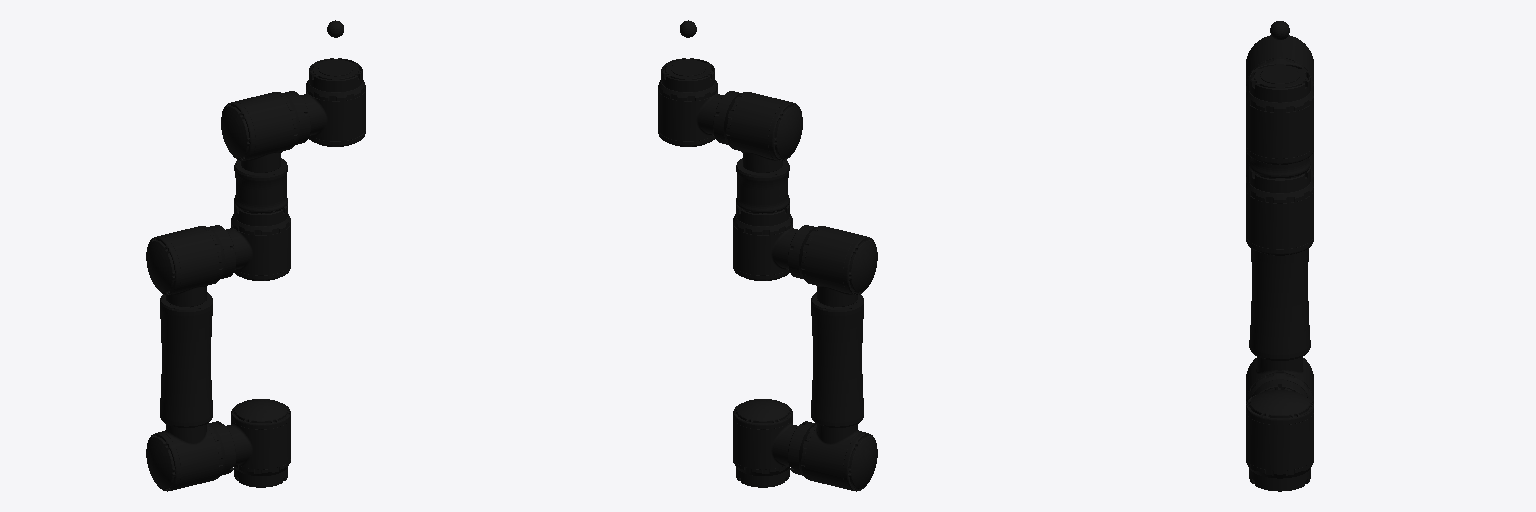
URDF robot description (aquarm_origin):
<?xml version="1.0" ?>
<robot name="aquarm_origin">
  <material name="silver">
    <color rgba="0.116 0.116 0.116 1.000"/>
  </material>

  <link name="base_link">
    <inertial>
      <origin rpy="0 0 0" xyz="-0.0012826207051944384 9.218271998639004e-07 0.022718286485849747"/>
      <mass value="0.43979388247230944"/>
      <inertia ixx="0.000228" ixy="0.0" ixz="2e-06" iyy="0.000242" iyz="-0.0" izz="0.00024"/>
    </inertial>
    <visual>
      <origin rpy="0 0 0" xyz="0 0 0"/>
      <geometry>
        <mesh filename="package://aquarm_description/meshes/aquarm_origin/base_link.stl" scale="1.0 1.0 1.0"/>
      </geometry>
      <material name="silver"/>
    </visual>
    <collision>
      <origin rpy="0 0 0" xyz="0 0 0.028"/>
      <geometry>
        <cylinder radius="0.030" length="0.056"/>
      </geometry>
    </collision>
  </link>
  <link name="link_1">
    <inertial>
      <origin rpy="0 0 0" xyz="-0.002360416530553523 -3.52764964031724e-06 0.03938053665298224"/>
      <mass value="0.7586472269825323"/>
      <inertia ixx="0.000583" ixy="-0.0" ixz="1.9e-05" iyy="0.000642" iyz="-1e-06" izz="0.000509"/>
    </inertial>
    <visual>
      <origin rpy="0 0 0" xyz="0.0 0.0 -0.056"/>
      <geometry>
        <mesh filename="package://aquarm_description/meshes/aquarm_origin/link_1.stl" scale="1.0 1.0 1.0"/>
      </geometry>
      <material name="silver"/>
    </visual>
    <collision>
      <origin rpy="0 0 0" xyz="0 0 0.025"/>
      <geometry>
        <cylinder radius="0.025" length="0.05"/>
      </geometry>
    </collision>
    <collision>
      <origin rpy="0 1.5708 0" xyz="-0.02475 0 0.05"/>
      <geometry>
        <cylinder radius="0.025" length="0.0495"/>
      </geometry>
    </collision>
  </link>
  <link name="link_2">
    <inertial>
      <origin rpy="0 0 0" xyz="-0.0412061525896634 -1.451457640822732e-09 0.12500022434407893"/>
      <mass value="1.8322876716564722"/>
      <inertia ixx="0.02501" ixy="-0.0" ixz="0.0" iyy="0.025305" iyz="0.0" izz="0.0014"/>
    </inertial>
    <visual>
      <origin rpy="0 0 0" xyz="0.0495 -0.0 -0.106"/>
      <geometry>
        <mesh filename="package://aquarm_description/meshes/aquarm_origin/link_2.stl" scale="1.0 1.0 1.0"/>
      </geometry>
      <material name="silver"/>
    </visual>
    <collision>
      <origin rpy="0 0 0" xyz="-0.05 0 0.125"/>
      <geometry>
        <cylinder radius="0.030" length="0.25"/>
      </geometry>
    </collision>
  </link>
  <link name="link_3">
    <inertial>
      <origin rpy="0 0 0" xyz="0.047139569533553013 3.524564222311259e-06 0.010619424652950016"/>
      <mass value="0.7586473967627646"/>
      <inertia ixx="0.000583" ixy="0.0" ixz="-1.9e-05" iyy="0.000642" iyz="-1e-06" izz="0.000509"/>
    </inertial>
    <visual>
      <origin rpy="0 0 0" xyz="0.0495 0.0 -0.356"/>
      <geometry>
        <mesh filename="package://aquarm_description/meshes/aquarm_origin/link_3.stl" scale="1.0 1.0 1.0"/>
      </geometry>
      <material name="silver"/>
    </visual>
    <collision>
      <origin rpy="0 1.5708 0" xyz="0.02475 0 0"/>
      <geometry>
        <cylinder radius="0.025" length="0.0495"/>
      </geometry>
    </collision>
    <collision>
      <origin rpy="0 0 0" xyz="0.0495 0 0.025"/>
      <geometry>
        <cylinder radius="0.025" length="0.05"/>
      </geometry>
    </collision>
  </link>
  <link name="link_4">
    <inertial>
      <origin rpy="0 0 0" xyz="0.008481789051599051 -2.816168821948022e-06 0.08132283856391859"/>
      <mass value="0.9498457528251933"/>
      <inertia ixx="0.001335" ixy="1e-06" ixz="-0.00013" iyy="0.001488" iyz="-0.0" izz="0.000707"/>
    </inertial>
    <visual>
      <origin rpy="0 0 0" xyz="0.0 0.0 -0.406"/>
      <geometry>
        <mesh filename="package://aquarm_description/meshes/aquarm_origin/link_4.stl" scale="1.0 1.0 1.0"/>
      </geometry>
      <material name="silver"/>
    </visual>
    <collision>
      <origin rpy="0 0 0" xyz="0 0 0.04875"/>
      <geometry>
        <cylinder radius="0.025" length="0.0975"/>
      </geometry>
    </collision>
  </link>
  <link name="link_5">
    <inertial>
      <origin rpy="0 0 0" xyz="0.04705218543959541 3.912807862299357e-06 0.010967305416015205"/>
      <mass value="0.7307706362027909"/>
      <inertia ixx="0.000568" ixy="0.0" ixz="-2e-05" iyy="0.000627" iyz="-1e-06" izz="0.000486"/>
    </inertial>
    <visual>
      <origin rpy="0 0 0" xyz="-0.05 0.0 -0.5035"/>
      <geometry>
        <mesh filename="package://aquarm_description/meshes/aquarm_origin/link_5.stl" scale="1.0 1.0 1.0"/>
      </geometry>
      <material name="silver"/>
    </visual>
    <collision>
      <origin rpy="0 1.5708 0" xyz="0.02475 0 0"/>
      <geometry>
        <cylinder radius="0.025" length="0.0495"/>
      </geometry>
    </collision>
  </link>
  <link name="link_6">
    <inertial>
      <origin rpy="0 0 0" xyz="-4.7406523151494184e-14 -2.5552644099596276e-14 0.010000000000001674"/>
      <mass value="0.021577473094923763"/>
      <inertia ixx="4e-06" ixy="-0.0" ixz="-0.0" iyy="4e-06" iyz="-0.0" izz="7e-06"/>
    </inertial>
  </link>
  <link name="tool">
    <visual>
      <origin rpy="0 0 0" xyz="0.0 0 0.0"/>
      <geometry>

        <sphere radius="0.01"/>
      </geometry>
      <material name="silver"/>
    </visual>

  </link>

  <joint name="joint1" type="continuous">
    <origin rpy="0 0 0" xyz="0.0 0.0 0.056"/>
    <parent link="base_link"/>
    <child link="link_1"/>
    <axis xyz="0.0 0.0 1.0"/>
  </joint>
  <joint name="joint2" type="continuous">
    <origin rpy="0 0 0" xyz="-0.0495 0.0 0.05"/>
    <parent link="link_1"/>
    <child link="link_2"/>
    <axis xyz="-1.0 0.0 0.0"/>
  </joint>
  <joint name="joint3" type="continuous">
    <origin rpy="0 0 0" xyz="0.0 -0.0 0.25"/>
    <parent link="link_2"/>
    <child link="link_3"/>
    <axis xyz="1.0 0.0 0.0"/>
  </joint>
  <joint name="joint4" type="continuous">
    <origin rpy="0 0 0" xyz="0.0495 0.0 0.05"/>
    <parent link="link_3"/>
    <child link="link_4"/>
    <axis xyz="0.0 0.0 1.0"/>
  </joint>
  <joint name="joint5" type="continuous">
    <origin rpy="0 0 0" xyz="0.05 0.0 0.0975"/>
    <parent link="link_4"/>
    <child link="link_5"/>
    <axis xyz="1.0 0.0 0.0"/>
  </joint>
  <joint name="joint6" type="continuous">
    <origin rpy="0 0 0" xyz="0.0495 0.0 0.05"/>
    <parent link="link_5"/>
    <child link="link_6"/>
    <axis xyz="0.0 0.0 1.0"/>
  </joint>
  <joint name="tool_joint" type="fixed">
    <origin rpy="0 0 0" xyz="0 0 0.05"/>
    <parent link="link_6"/>
    <child link="tool"/>
  </joint>

</robot>

--- Facts derived from the render (not from the file) ---
Views: 3 orthographic renders of the robot side by side, from view 1: azimuth 30°, elevation 25°; view 2: azimuth 150°, elevation 25°; view 3: azimuth 270°, elevation 25°.
Robot: aquarm_origin — 8 links, 7 joints (6 continuous, 1 fixed); root link base_link; default pose: every joint at zero.
Visible links, largest first — view 1: link_2, link_4, link_5, link_1, link_3; view 2: link_2, link_4, link_5, link_1, link_3; view 3: link_2, link_1, link_5, link_3, link_4.
Link boxes in pixels (box(x1,y1,x2,y2)): link_2: box(146, 225, 235, 491); link_4: box(221, 91, 310, 213); link_5: box(300, 58, 365, 146); link_1: box(226, 399, 290, 487); link_3: box(226, 203, 290, 280); link_2: box(788, 225, 877, 491); link_4: box(713, 91, 802, 213); link_5: box(658, 58, 723, 146); link_1: box(733, 399, 797, 487); link_3: box(733, 203, 797, 280); link_2: box(1246, 152, 1313, 402); link_1: box(1246, 390, 1313, 491); link_5: box(1246, 64, 1313, 164); link_3: box(1246, 166, 1313, 255); link_4: box(1246, 35, 1313, 177).
Size in the robot's own frame: 0.2775 by 0.069 by 0.5575 metres.
5 mesh visuals loaded from 6 distinct referenced files (5 binary STL); not drawn: 1 (reference not matched to a file when rendering).
